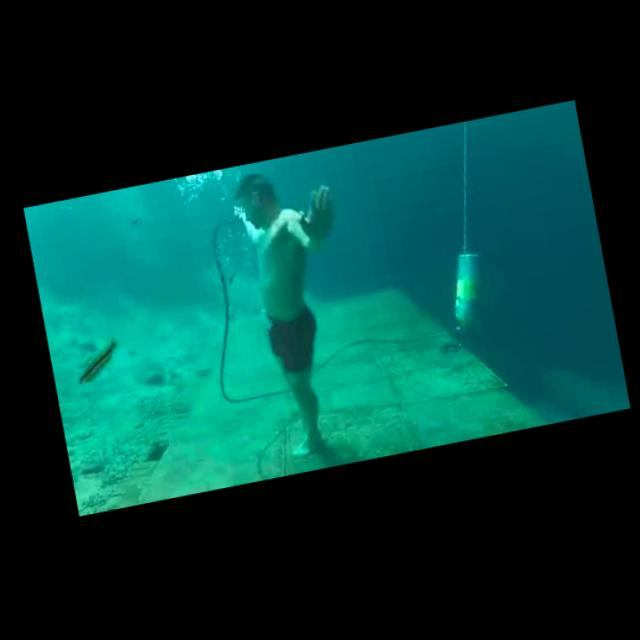human: (210, 150, 382, 476)
